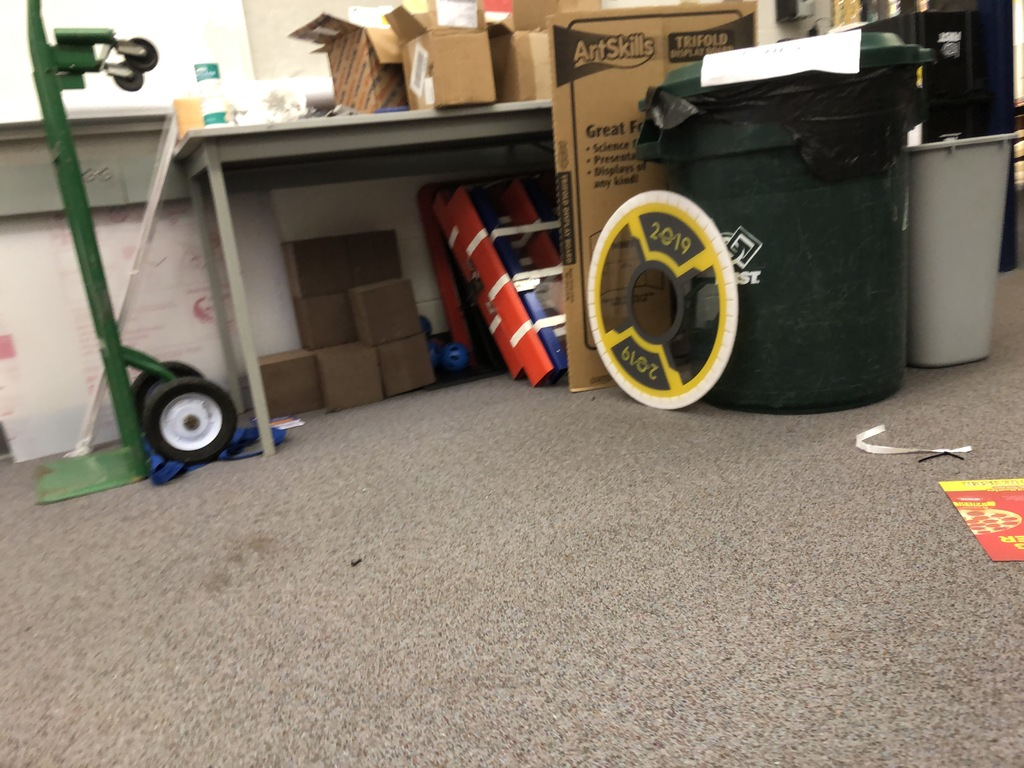hatch_panel: (562, 181, 748, 434)
